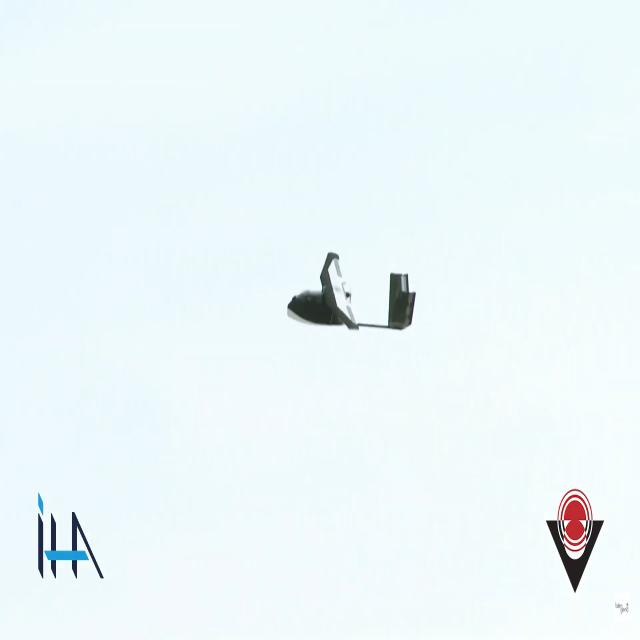iha: (287, 282, 416, 300)
